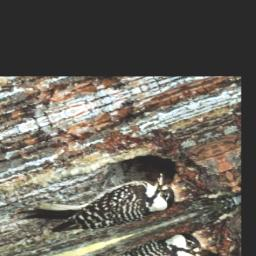Woodpecker: (15, 162, 183, 253)
